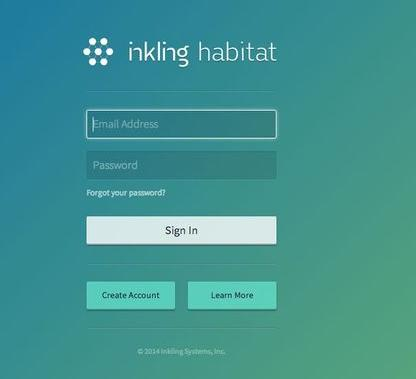button: (85, 214, 278, 247), (186, 280, 279, 312), (85, 280, 177, 312)
field: (85, 108, 279, 140), (86, 149, 279, 181)
